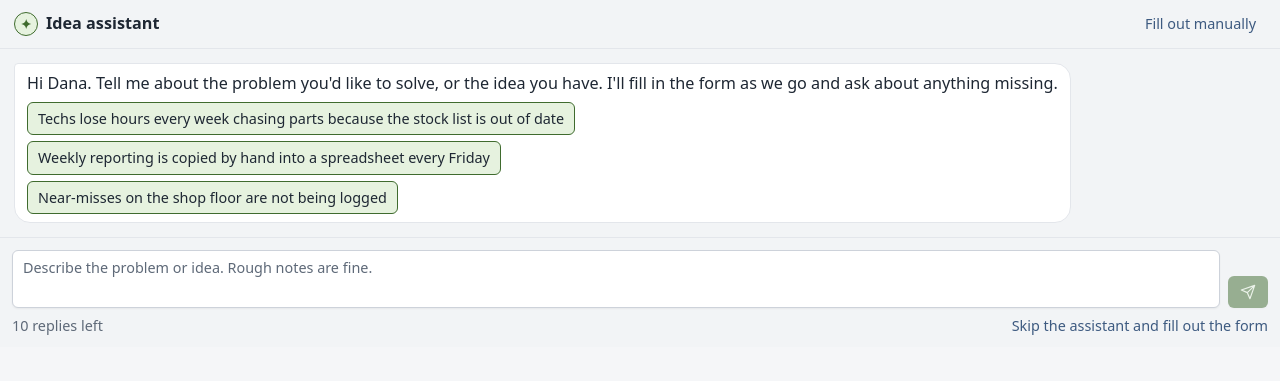
Test: AssistChat rate limit (429) › keeps the chat, returns the message to the composer and shows the wait as a system note
The width and height of the screenshot is (1280, 381).
Type "Techs lose hours" into the text box named "Message the assistant" at coordinates (616, 279), box [12, 250, 1220, 308]
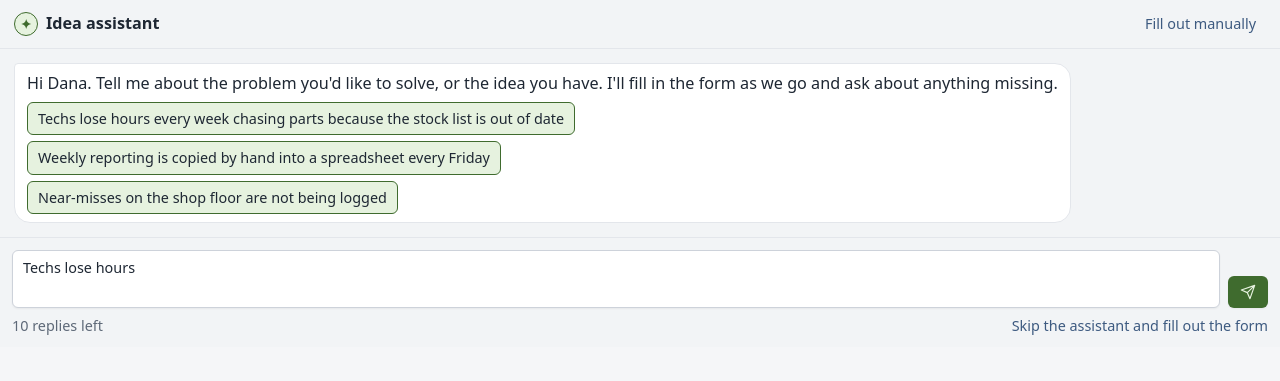
Click the button named "Send" at coordinates (1248, 292), box [1228, 276, 1268, 308]
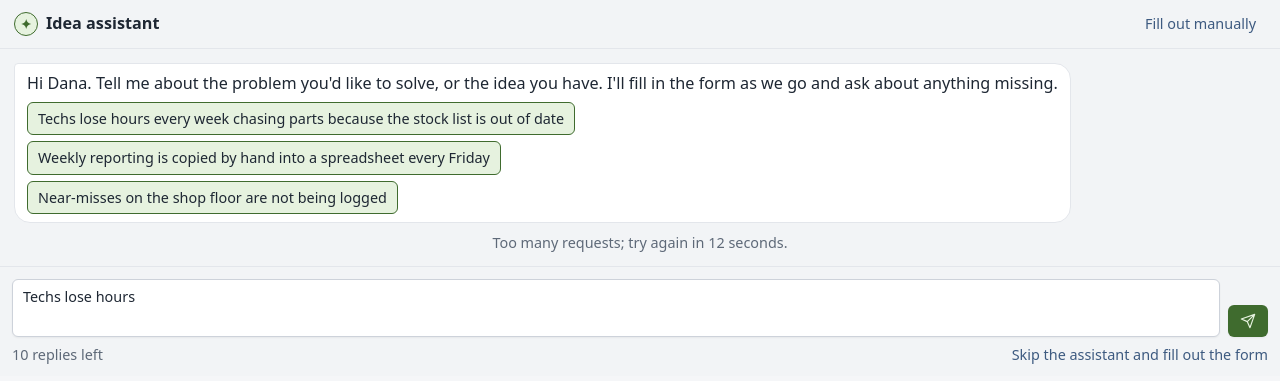
Expected: the text "10 replies left" is shown, [12, 345, 103, 364]
Now the text "Too many requests; try again in 12 seconds." is shown, box [484, 233, 796, 252]
